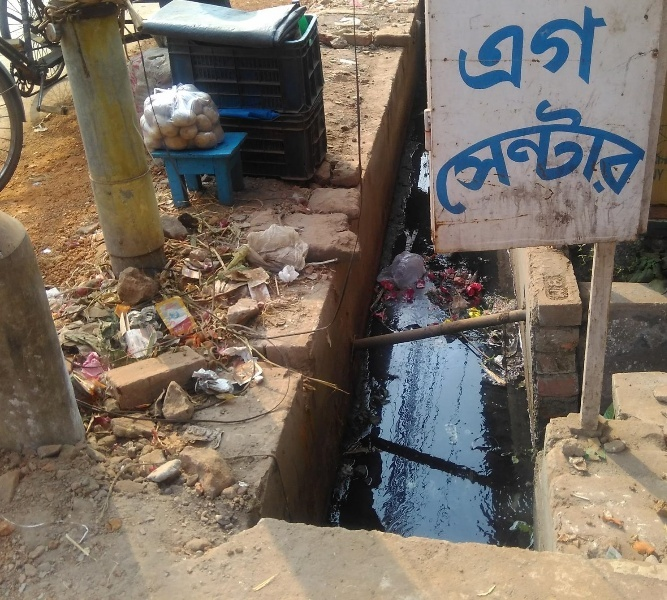text: (449, 93, 464, 220), (465, 93, 480, 220), (481, 93, 496, 220), (497, 93, 512, 220), (513, 93, 528, 220), (529, 93, 544, 220), (545, 93, 560, 220), (561, 93, 576, 220), (577, 93, 592, 220), (593, 93, 608, 220), (609, 93, 624, 220), (625, 93, 640, 220), (465, 1, 480, 99), (481, 1, 496, 99), (497, 1, 512, 99), (513, 1, 528, 99), (529, 1, 544, 99), (545, 1, 560, 99), (561, 1, 576, 99), (577, 1, 592, 99), (593, 1, 608, 99), (438, 93, 448, 220), (641, 93, 650, 220), (161, 292, 176, 337), (177, 292, 192, 337), (458, 1, 464, 99), (193, 292, 202, 337), (156, 292, 160, 337), (609, 1, 610, 99)
